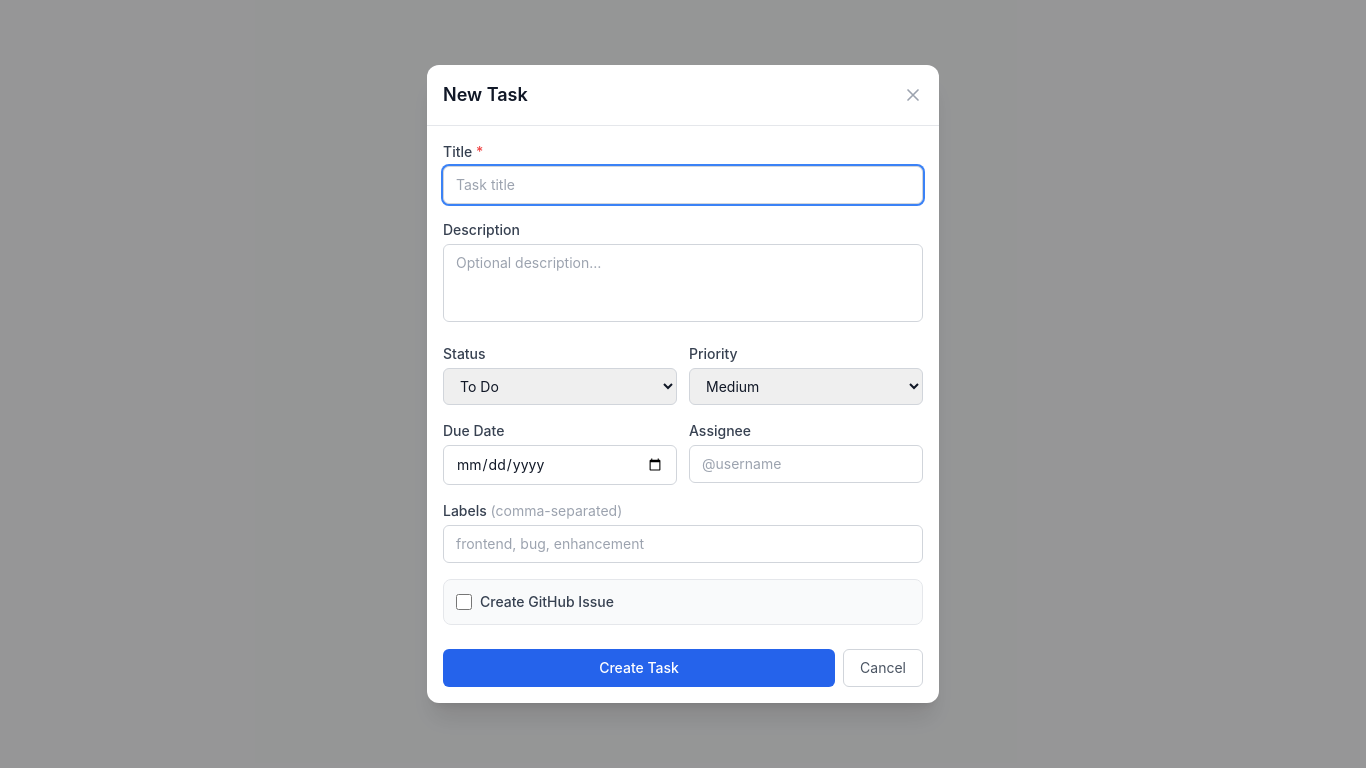
Test: TaskForm — Create mode › shows validation error when submitting empty title
Click the button "Create Task" at [639, 668], box [443,649,835,687]
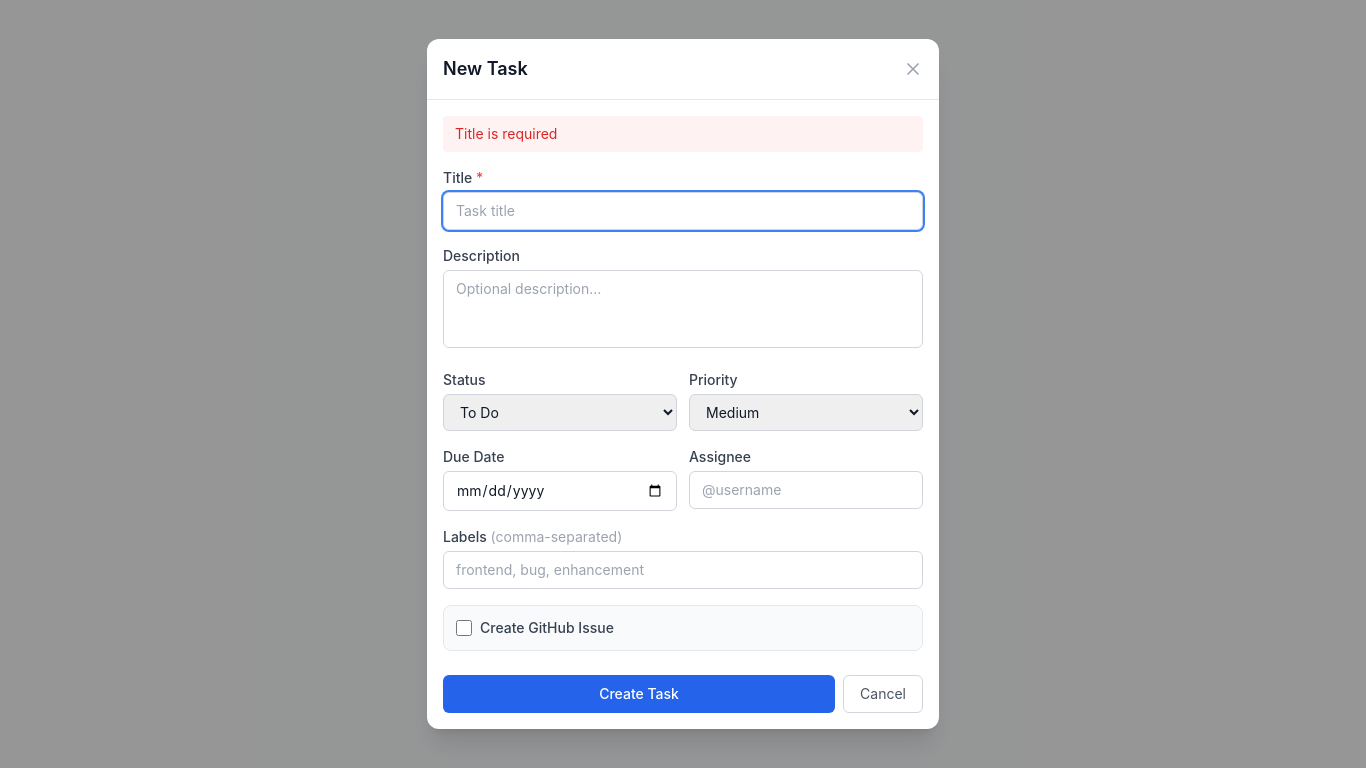
Check: the message reads "Title is required", box [455,125,557,142]
